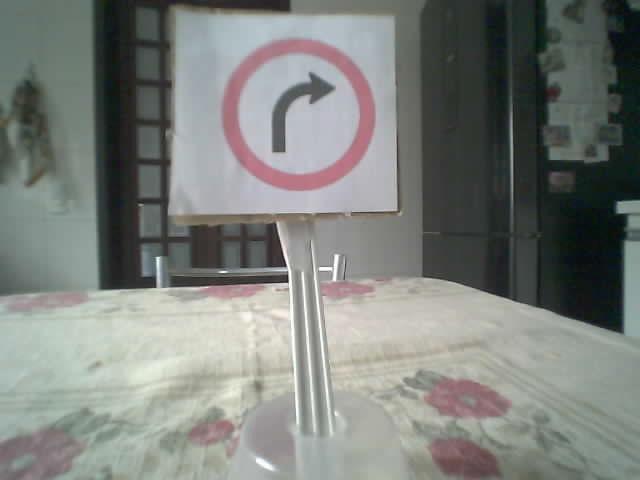R-25b_direita: (220, 36, 376, 191)
